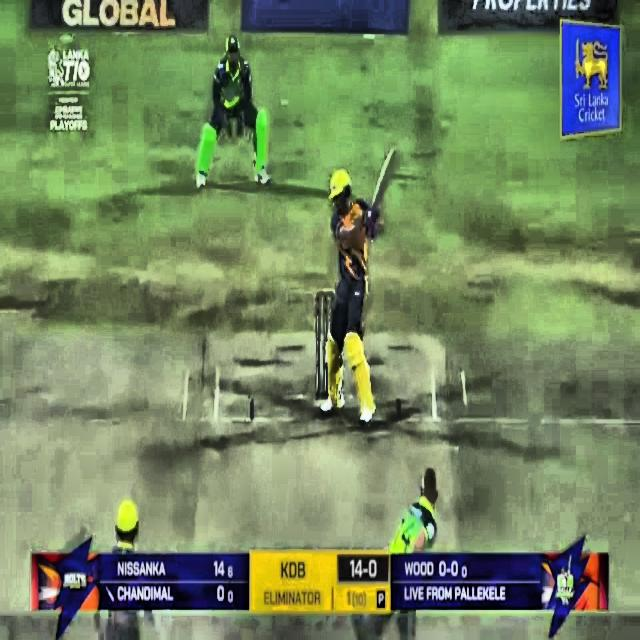Left-stump: (316, 296, 319, 397)
Middle-stump: (323, 366, 328, 397)
